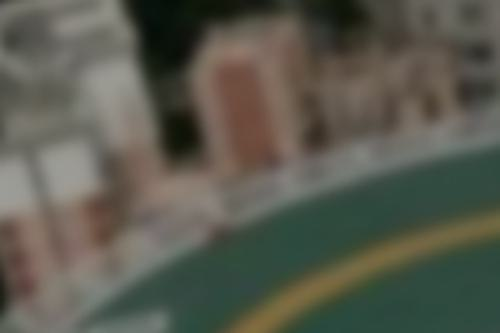Apron: (205, 182, 500, 333)
